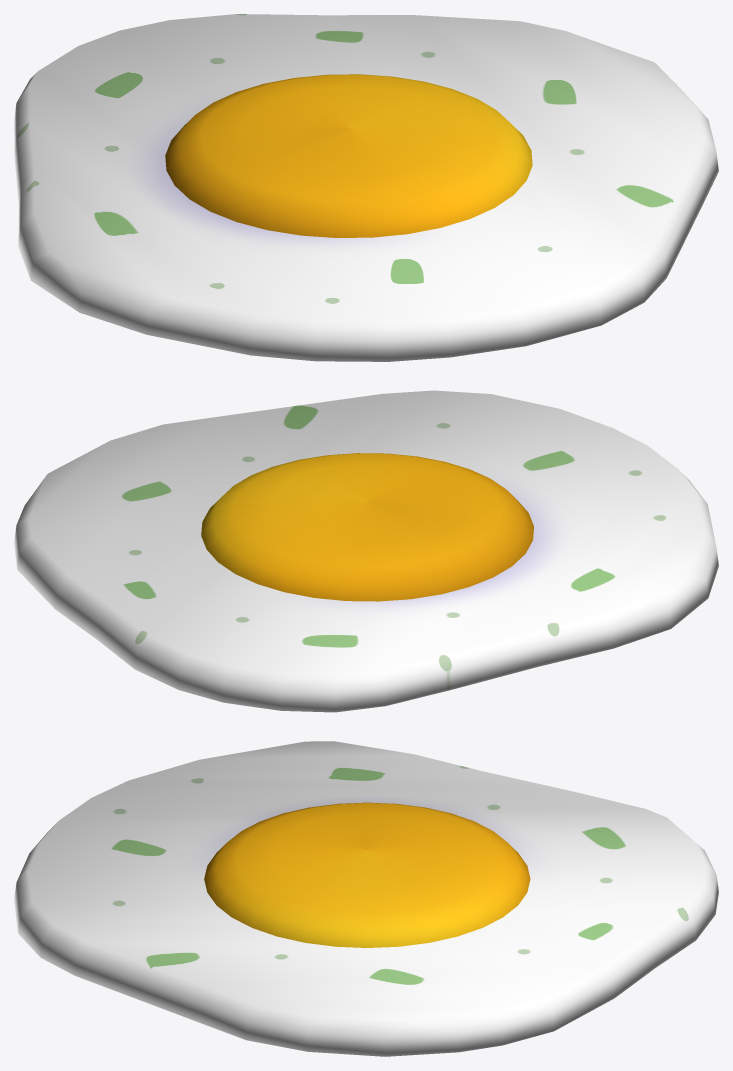
File: Egg.fbx
The picture shows the model from 3 angles, top to bottom: view 1: azimuth 30°, elevation 25°; view 2: azimuth 150°, elevation 25°; view 3: azimuth 270°, elevation 25°; orthographic projection. The views are drawn at different scales.
Parts seen in each view (by area): view 1: Egg; view 2: Egg; view 3: Egg.
Boxes of the visible parts, x1,y1,x2,y2 form: Egg: (14, 14, 718, 361); Egg: (14, 390, 718, 712); Egg: (14, 741, 718, 1056).
Bounding box in the file's own units: 16.67 × 1.61 × 17.23.
